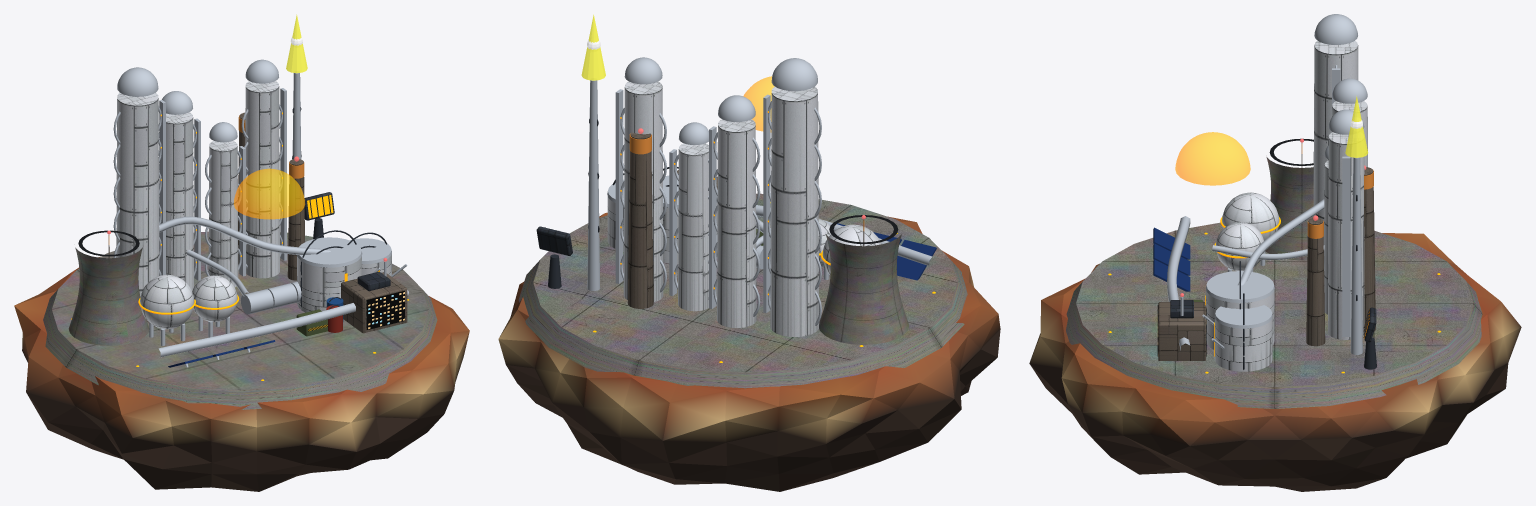
Rendered from refinery.glb.
The picture shows the model from 3 angles, left to right: view 1: azimuth 30°, elevation 25°; view 2: azimuth 150°, elevation 25°; view 3: azimuth 270°, elevation 25°; orthographic projection. The views are drawn at different scales.
Visible parts, largest first — view 1: object 1, object 2, object 13, object 52, object 111, object 28, object 41, object 116, object 72, object 88, object 104, anim:smoke (+18 smaller); view 2: object 1, object 2, object 13, object 28, object 111, object 41, object 52, anim:smoke, object 65, object 64, object 27, object 14 (+11 smaller); view 3: object 1, object 2, object 52, anim:smoke (×2), object 13, object 116, object 111, object 95, object 105, object 65, object 72, object 89 (+11 smaller).
Boxes of the visible parts, x1,y1,x2,y2 form: object 1: [14, 256, 469, 491]; object 2: [43, 231, 437, 409]; object 13: [116, 92, 159, 296]; object 52: [245, 81, 279, 278]; object 111: [68, 247, 149, 345]; object 28: [159, 112, 193, 291]; object 41: [208, 141, 238, 287]; object 116: [234, 168, 304, 219]; object 72: [140, 274, 194, 329]; object 88: [297, 255, 361, 312]; object 104: [158, 290, 408, 357]; anim:smoke: [287, 156, 304, 280]; object 1: [498, 212, 1000, 491]; object 2: [518, 193, 967, 388]; object 13: [770, 86, 819, 336]; object 28: [717, 119, 756, 327]; object 111: [819, 234, 909, 344]; object 41: [678, 143, 708, 311]; object 52: [623, 81, 663, 302]; anim:smoke: [627, 128, 653, 308]; object 65: [587, 80, 600, 290]; object 64: [615, 89, 623, 283]; object 27: [763, 94, 770, 313]; object 14: [771, 58, 817, 91]; object 1: [1029, 233, 1521, 491]; object 2: [1066, 222, 1482, 408]; object 52: [1328, 132, 1364, 339]; anim:smoke (×2): [1306, 165, 1375, 346]; object 13: [1313, 40, 1358, 255]; object 116: [1175, 132, 1250, 185]; object 111: [1265, 157, 1313, 260]; object 95: [1215, 318, 1272, 371]; object 105: [1158, 302, 1205, 360]; object 65: [1350, 157, 1362, 354]; object 72: [1222, 192, 1279, 240]; object 89: [1206, 271, 1274, 302].
Size of the model in its own units: 6.89 by 6.14 by 7.19.
Materials: 22 (7 with a texture image).
